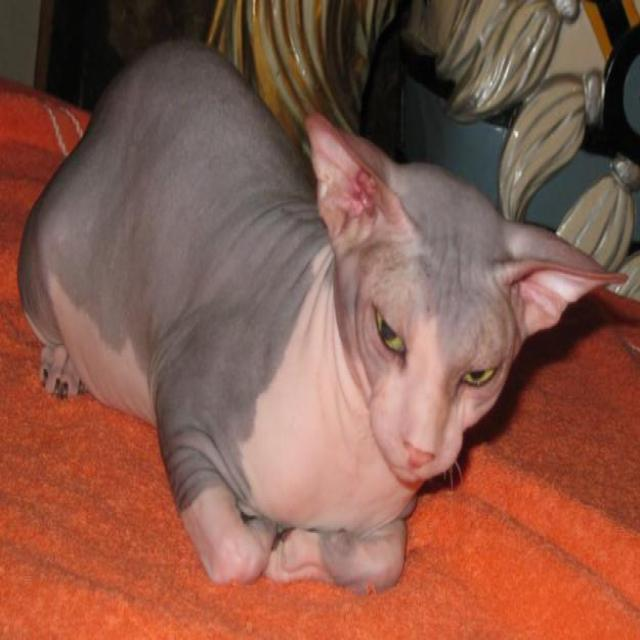Sphynx: (304, 99, 631, 498)
